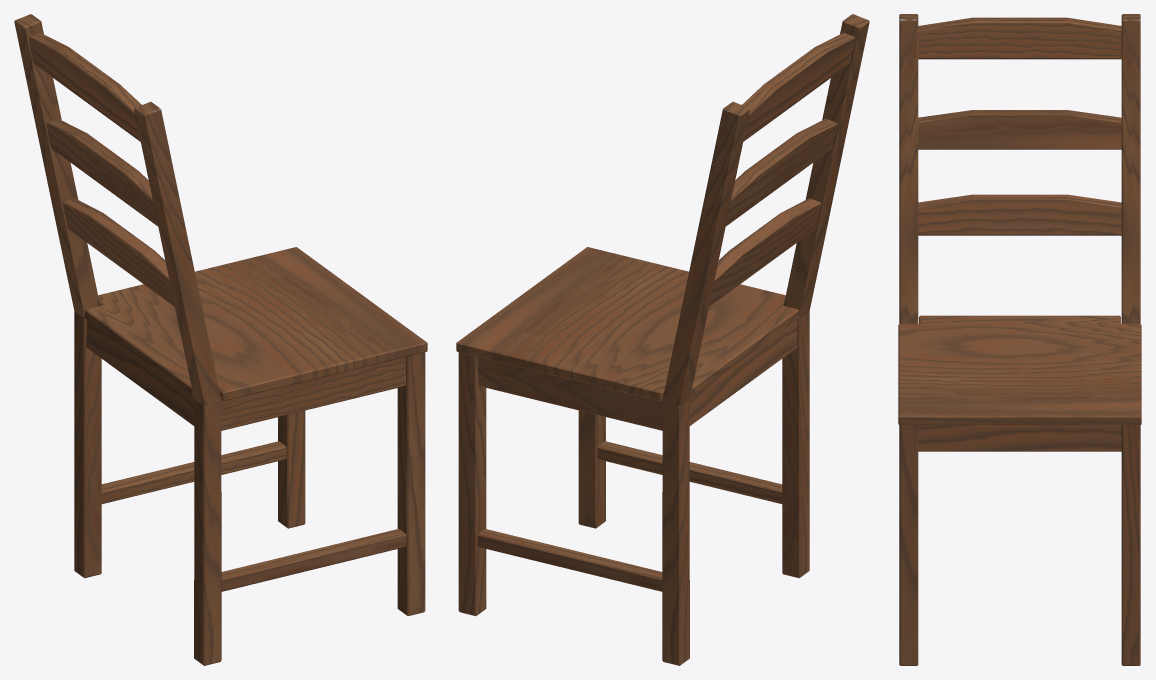
The model's file is chair2.obj.
The picture shows the model from 3 angles, left to right: view 1: azimuth 30°, elevation 25°; view 2: azimuth 150°, elevation 25°; view 3: azimuth 270°, elevation 25°; orthographic projection. The views are drawn at different scales.
Visible parts, largest first — view 1: Cube.009; view 2: Cube.009; view 3: Cube.009.
Part boxes in pixels (box(x1,y1,x2,y2)): Cube.009: box(14, 14, 427, 665); Cube.009: box(456, 14, 869, 665); Cube.009: box(898, 14, 1141, 665).
Bounding box in the file's own units: 0.5034 × 0.963 × 0.4031.
